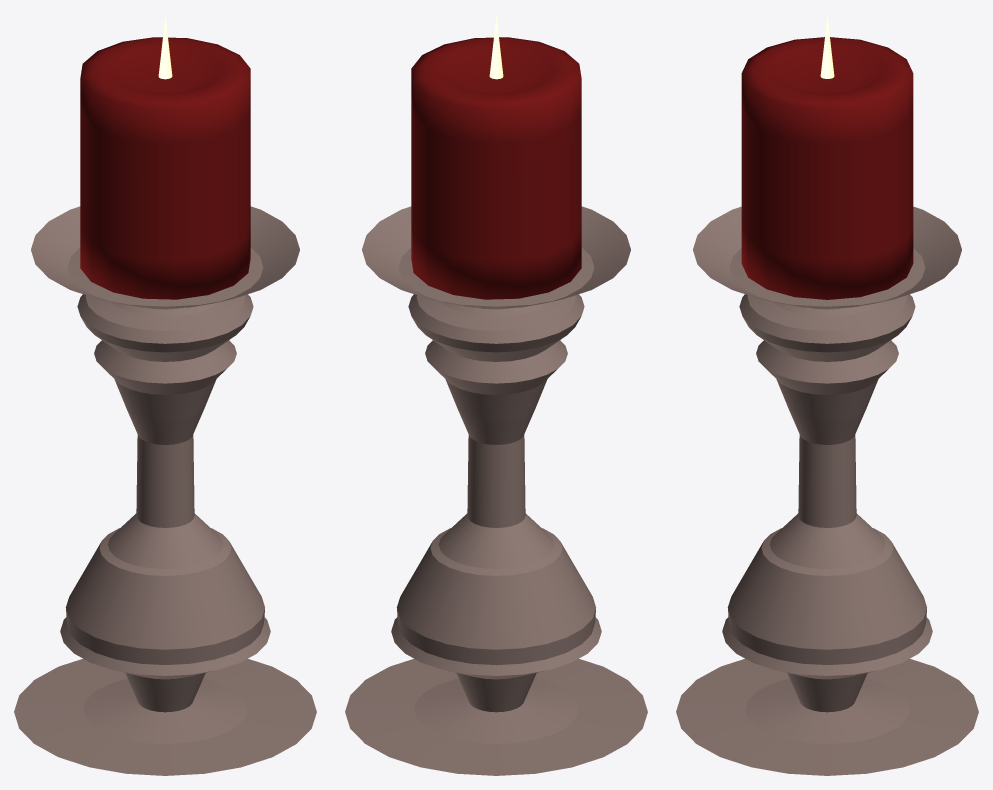
Rendered from Kerze.fbx.
The picture shows the model from 3 angles, left to right: view 1: azimuth 30°, elevation 25°; view 2: azimuth 150°, elevation 25°; view 3: azimuth 270°, elevation 25°; orthographic projection.
Visible parts, largest first — view 1: Lathe, Zylinder; view 2: Lathe, Zylinder; view 3: Lathe, Zylinder.
Part boxes in pixels (<box>): Lathe: <box>14,206,316,775</box>; Zylinder: <box>80,14,250,299</box>; Lathe: <box>345,206,647,775</box>; Zylinder: <box>411,14,581,299</box>; Lathe: <box>676,206,978,775</box>; Zylinder: <box>741,14,913,299</box>.
Bounding box in the file's own units: 12.08 × 30.69 × 12.08.
